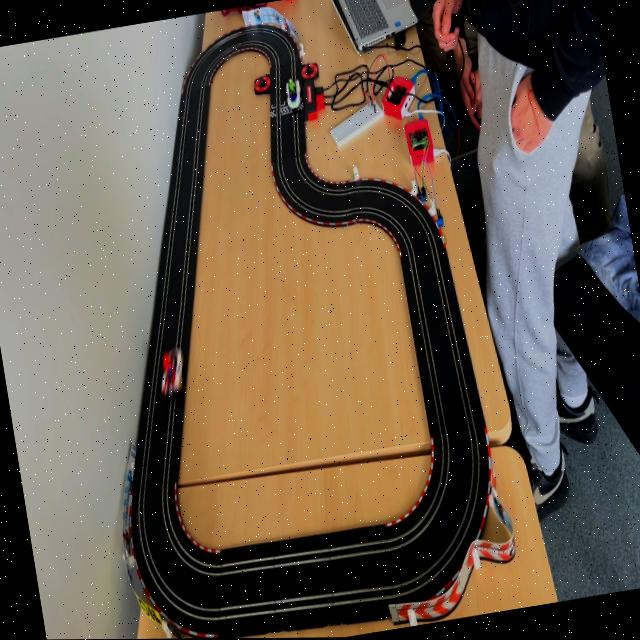mario: (150, 336, 193, 402)
yoshi: (282, 76, 304, 112)
